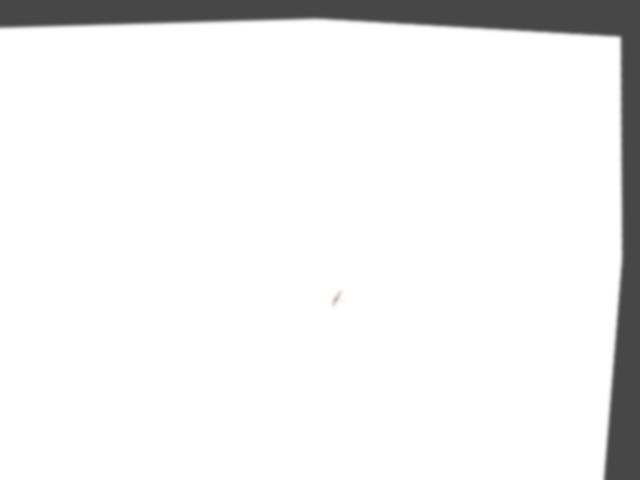uav: (325, 275, 359, 310)
